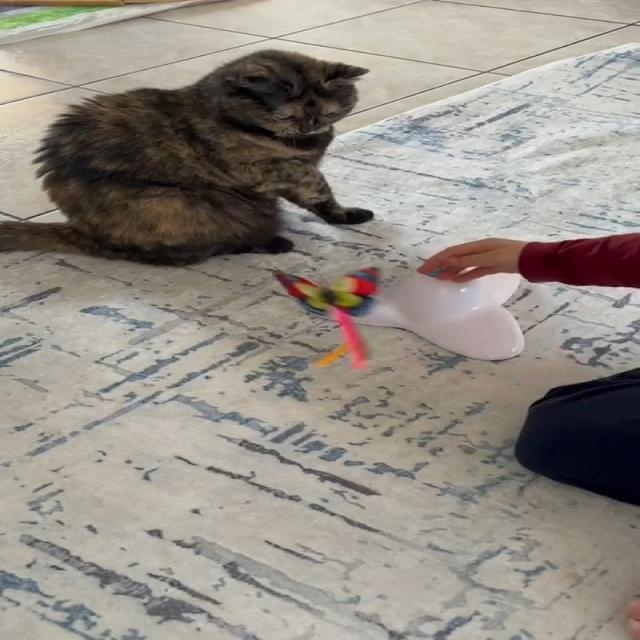authorized: (0, 48, 375, 267)
